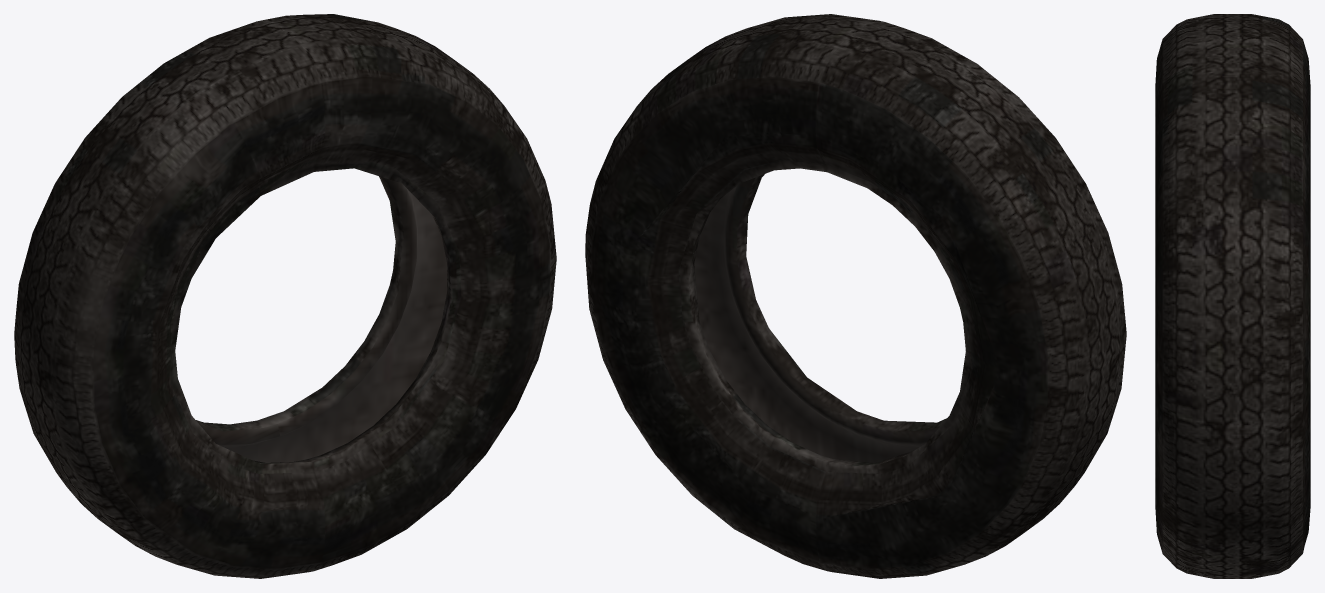
File: tyre.glb
The picture shows the model from 3 angles, left to right: view 1: azimuth 30°, elevation 25°; view 2: azimuth 150°, elevation 25°; view 3: azimuth 270°, elevation 25°; orthographic projection. The views are drawn at different scales.
Visible parts, largest first — view 1: old_tyre; view 2: old_tyre; view 3: old_tyre.
Part boxes in pixels (x1,y1,x2,y2): old_tyre: [14, 14, 556, 578]; old_tyre: [585, 14, 1126, 578]; old_tyre: [1155, 14, 1310, 578].
Size of the model in its own units: 0.6 by 0.6 by 0.165.
Materials: 1 (1 with a texture image).
